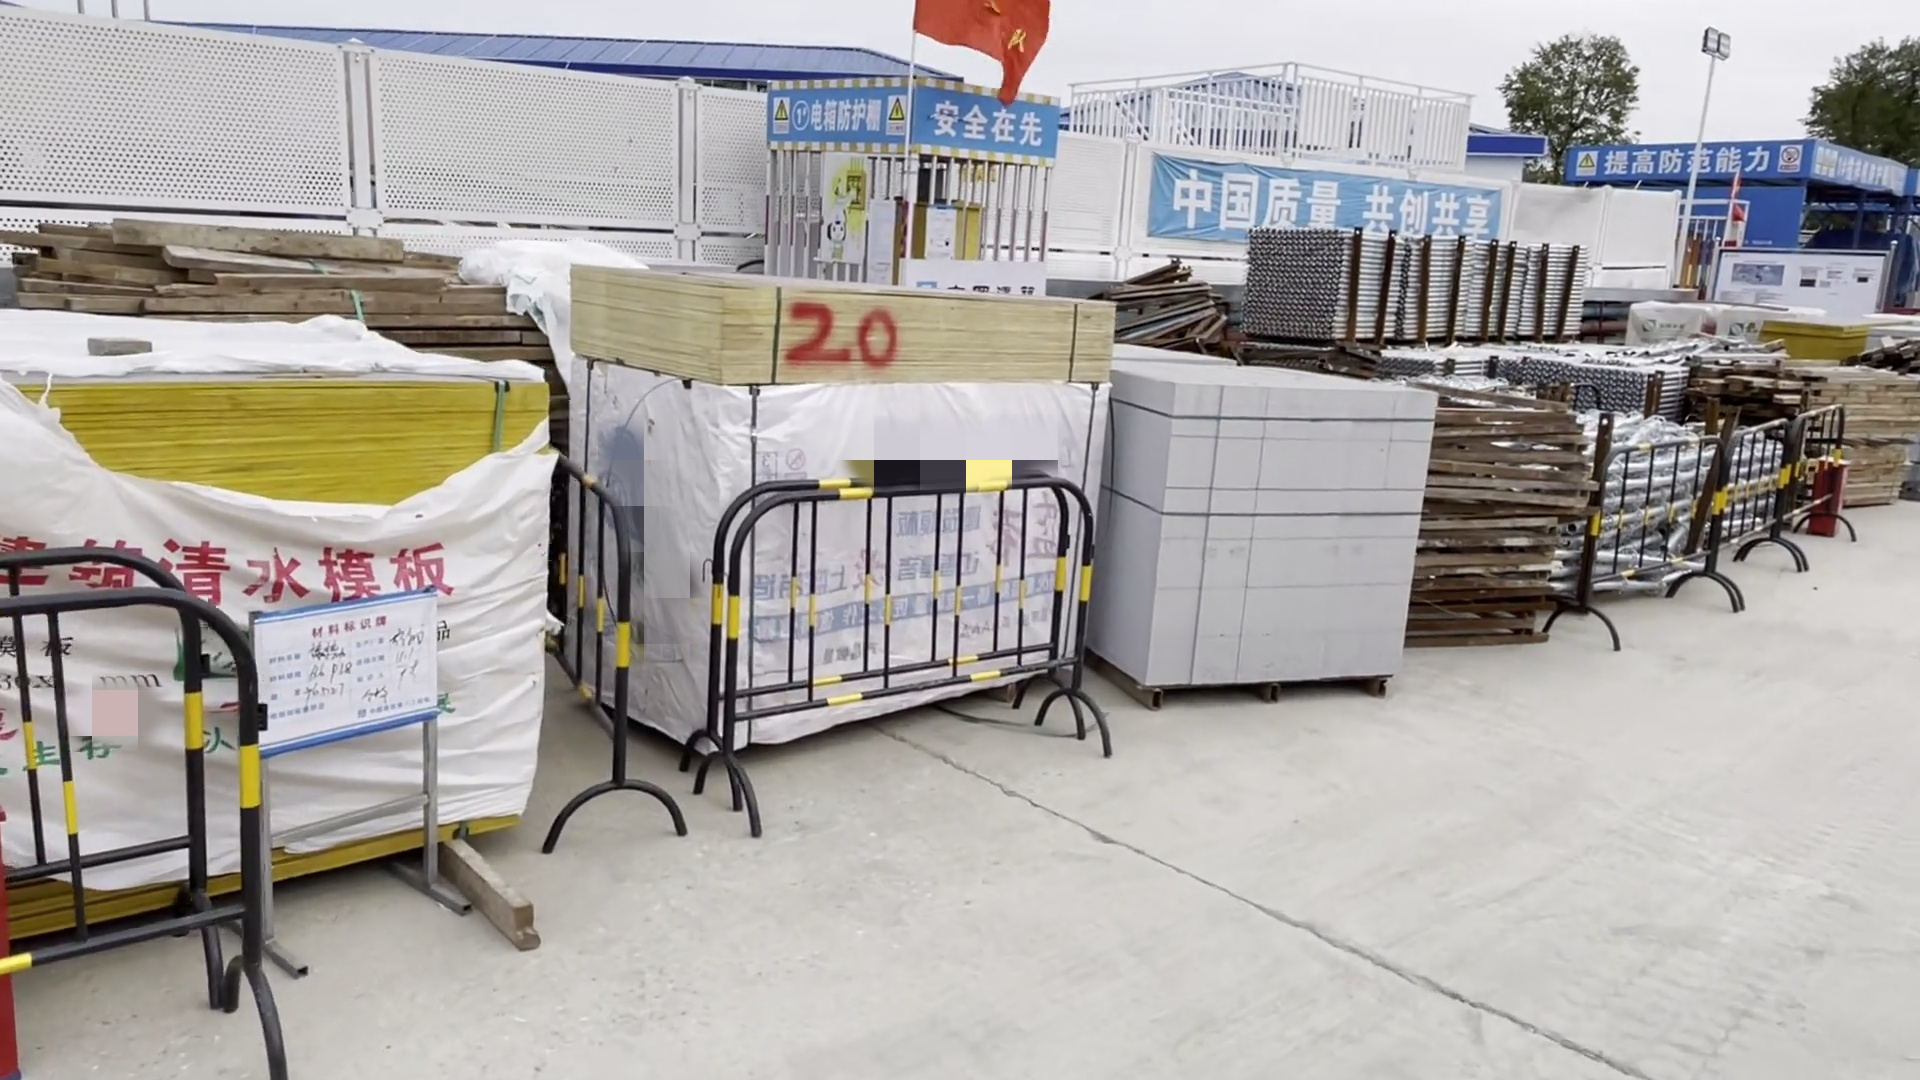brick: (1097, 351, 1449, 729), (21, 200, 527, 351)
scaffold: (1247, 244, 1596, 353)
slogan: (1145, 144, 1502, 255), (765, 65, 1058, 153), (1545, 140, 1919, 200)
